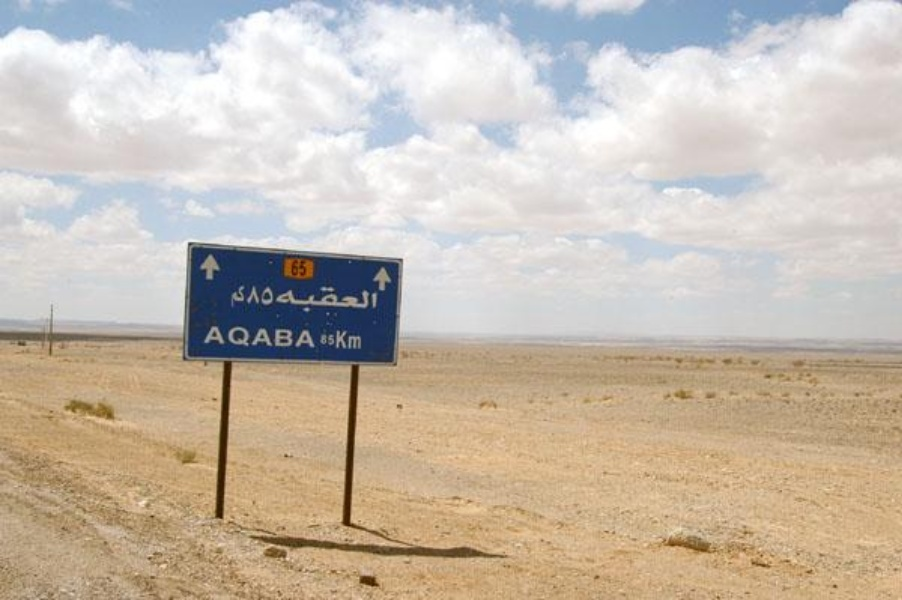text: (289, 282, 304, 313), (305, 282, 320, 313), (321, 282, 336, 313), (337, 282, 352, 313), (353, 282, 368, 313), (274, 282, 288, 313), (209, 322, 224, 349), (225, 322, 240, 349), (241, 322, 256, 349), (257, 322, 272, 349), (273, 322, 288, 349), (289, 322, 304, 349), (337, 328, 352, 351), (257, 285, 272, 307), (369, 282, 379, 313), (305, 322, 316, 349), (289, 259, 304, 277), (229, 285, 240, 309), (353, 328, 363, 351), (321, 333, 334, 348), (249, 285, 256, 307), (241, 285, 247, 309), (206, 322, 208, 349), (305, 259, 307, 277), (273, 285, 274, 307), (319, 333, 320, 348)
